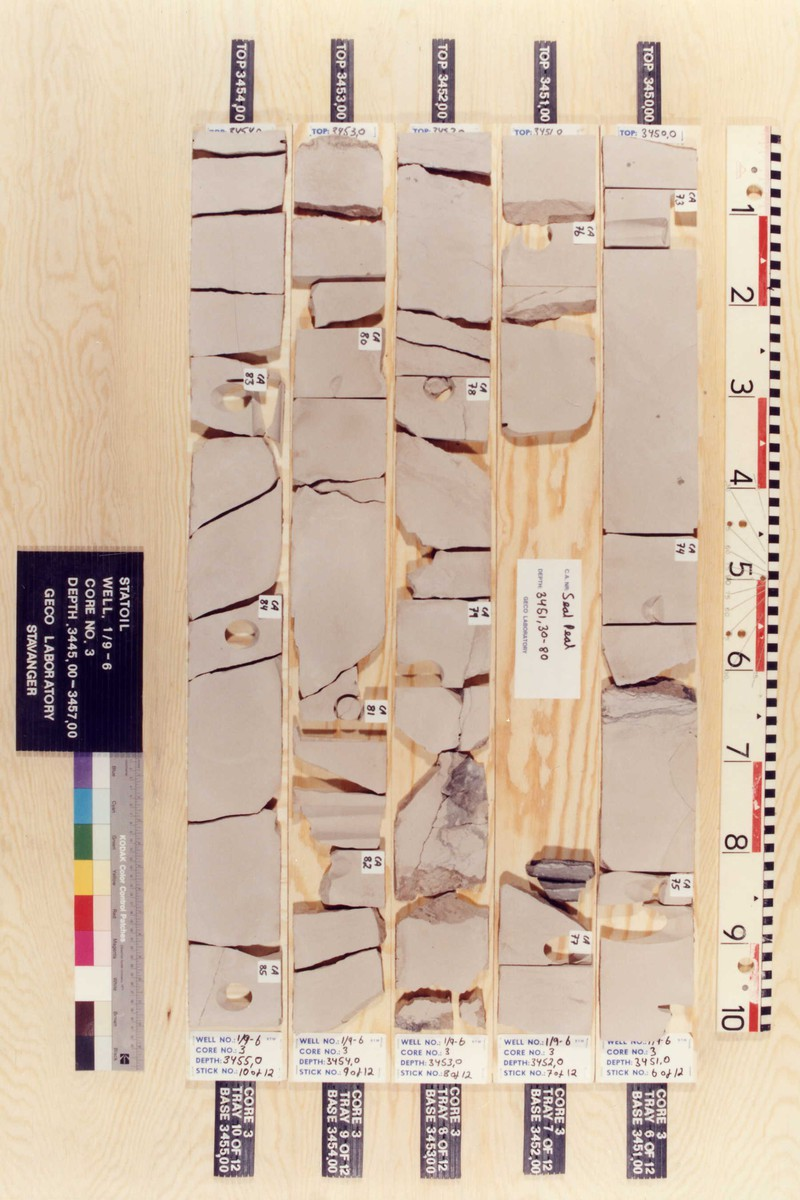core: (392, 130, 491, 1035), (603, 131, 699, 1042), (193, 130, 287, 1035), (292, 137, 384, 1031), (499, 132, 600, 448), (497, 856, 597, 1036)
